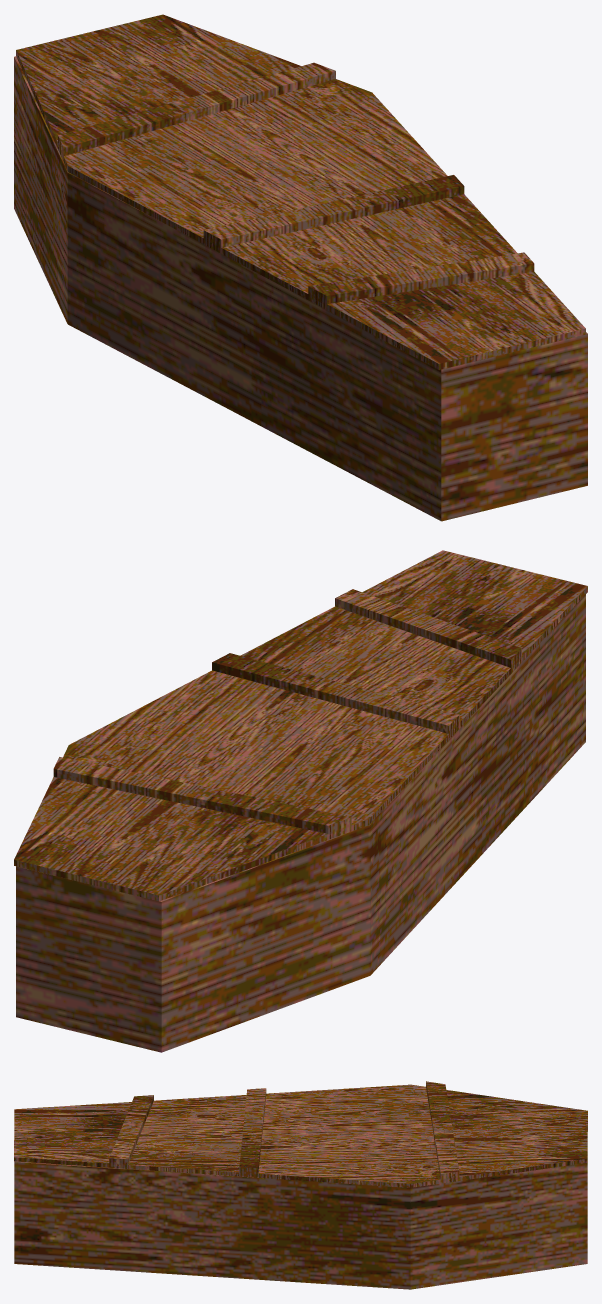
The model's file is coffn.fbx.
The picture shows the model from 3 angles, top to bottom: view 1: azimuth 30°, elevation 25°; view 2: azimuth 150°, elevation 25°; view 3: azimuth 270°, elevation 25°; orthographic projection. The views are drawn at different scales.
Visible parts, largest first — view 1: CoffinLid1, Coffin1; view 2: CoffinLid1, Coffin1; view 3: Coffin1, CoffinLid1.
Part boxes in pixels (bbox=[...]): CoffinLid1: bbox=[16, 14, 585, 369]; Coffin1: bbox=[14, 56, 587, 521]; CoffinLid1: bbox=[14, 550, 587, 901]; Coffin1: bbox=[16, 594, 585, 1052]; Coffin1: bbox=[14, 1161, 587, 1289]; CoffinLid1: bbox=[14, 1081, 587, 1187].
Bounding box in the file's own units: 85.53 × 44.62 × 208.
